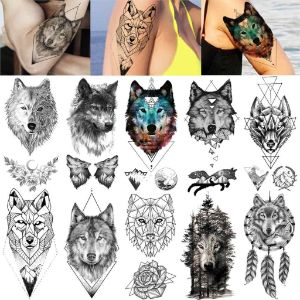wolf: (4, 77, 58, 154), (67, 77, 119, 155), (65, 200, 119, 272), (126, 80, 179, 153), (4, 187, 54, 263), (186, 79, 237, 146), (223, 1, 276, 64), (125, 191, 176, 256), (30, 3, 83, 65), (113, 1, 157, 74), (248, 94, 296, 154), (189, 228, 231, 278), (249, 191, 287, 240), (183, 166, 236, 197), (94, 155, 122, 188), (65, 154, 91, 189)
